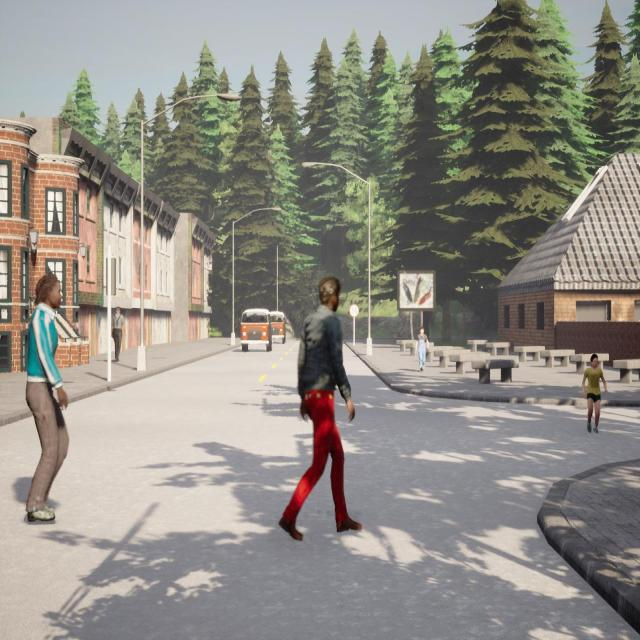Pedestrian: (279, 277, 361, 540), (26, 274, 68, 523), (582, 353, 608, 435), (111, 306, 126, 362), (414, 327, 430, 372)
Traffic_Signs: (349, 304, 359, 317)
Vehicle: (240, 309, 272, 352), (270, 312, 286, 344)
traffic_light: (106, 258, 116, 295)
